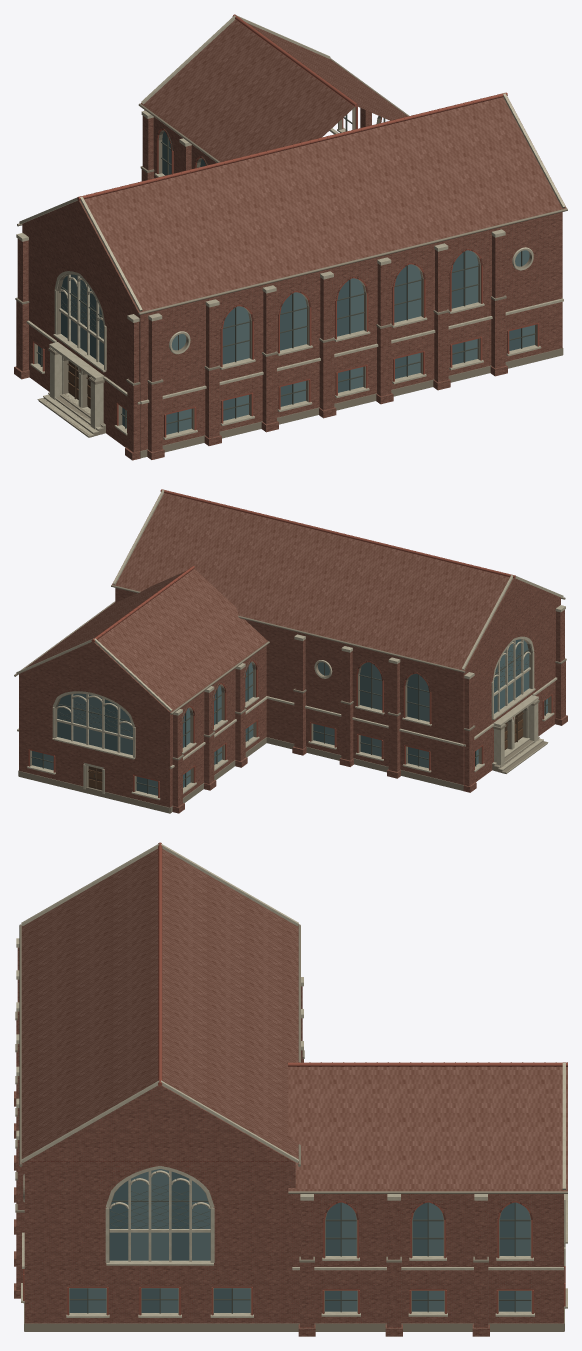
File: auditorium.glb
3 views of the same model, one above another, from view 1: azimuth 30°, elevation 25°; view 2: azimuth 150°, elevation 25°; view 3: azimuth 270°, elevation 25° (orthographic). The views are drawn at different scales.
Parts seen in each view (by area): view 1: Auditorium exterior; view 2: Auditorium exterior; view 3: Auditorium exterior.
Boxes of the visible parts, x1,y1,x2,y2 form: Auditorium exterior: (14, 14, 567, 460); Auditorium exterior: (14, 489, 567, 813); Auditorium exterior: (14, 842, 567, 1336).
Bounding box in the file's own units: 32.94 × 15.36 × 30.69.
Materials: 12 (3 with a texture image).
